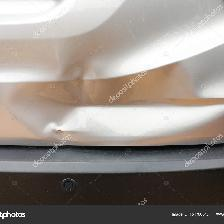dent: (0, 13, 224, 197)
